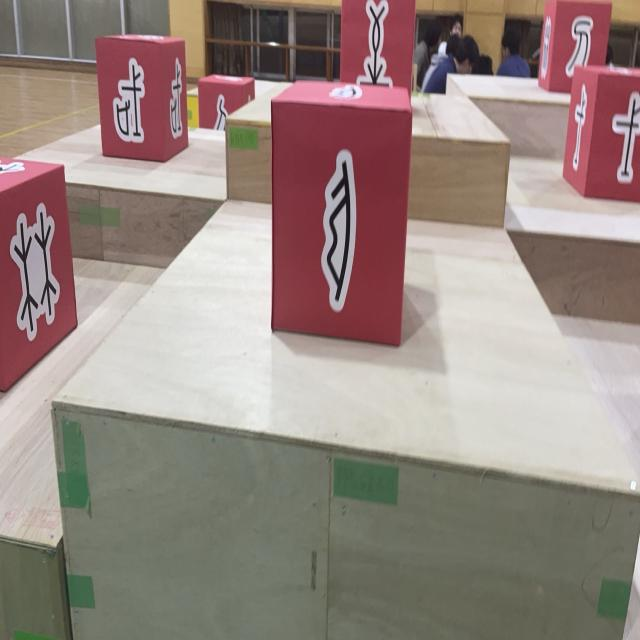10: (213, 94, 228, 131)
11: (322, 147, 357, 311), (330, 83, 362, 100)
2: (564, 15, 594, 76)
3: (541, 14, 552, 82)
5: (112, 58, 146, 143), (170, 56, 183, 140)
6: (9, 202, 61, 340)
7: (356, 0, 393, 86)
9: (612, 91, 640, 183), (572, 85, 588, 172)
fighter: (271, 81, 412, 347), (0, 156, 78, 390), (94, 34, 188, 162), (562, 64, 640, 202), (340, 0, 417, 102), (538, 0, 612, 93), (198, 74, 254, 131)
